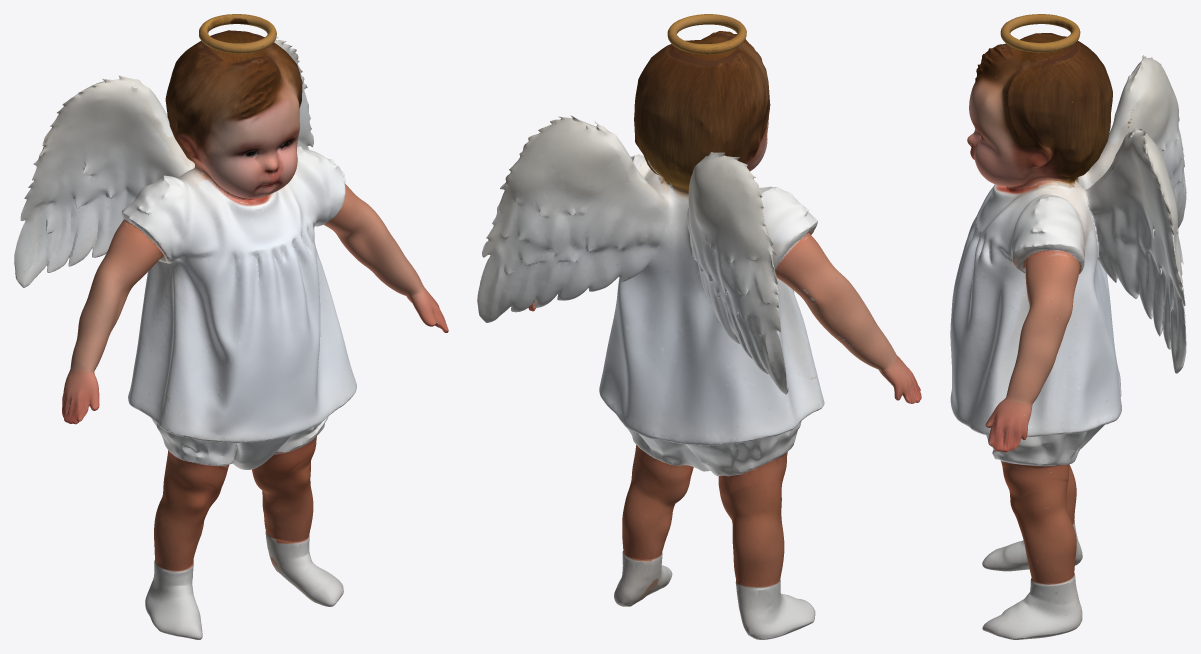
Rendered from base_basic_pbr.fbx.
3 views of the same model, side by side, from view 1: azimuth 30°, elevation 25°; view 2: azimuth 150°, elevation 25°; view 3: azimuth 270°, elevation 25° (orthographic). The views are drawn at different scales.
Parts seen in each view (by area): view 1: model; view 2: model; view 3: model.
Part boxes in pixels (bbox=[...]): model: bbox=[14, 14, 448, 639]; model: bbox=[477, 14, 921, 639]; model: bbox=[950, 14, 1186, 639].
Bounding box in the file's own units: 132 × 190 × 70.92.
Materials: 1 (1 with a texture image).
